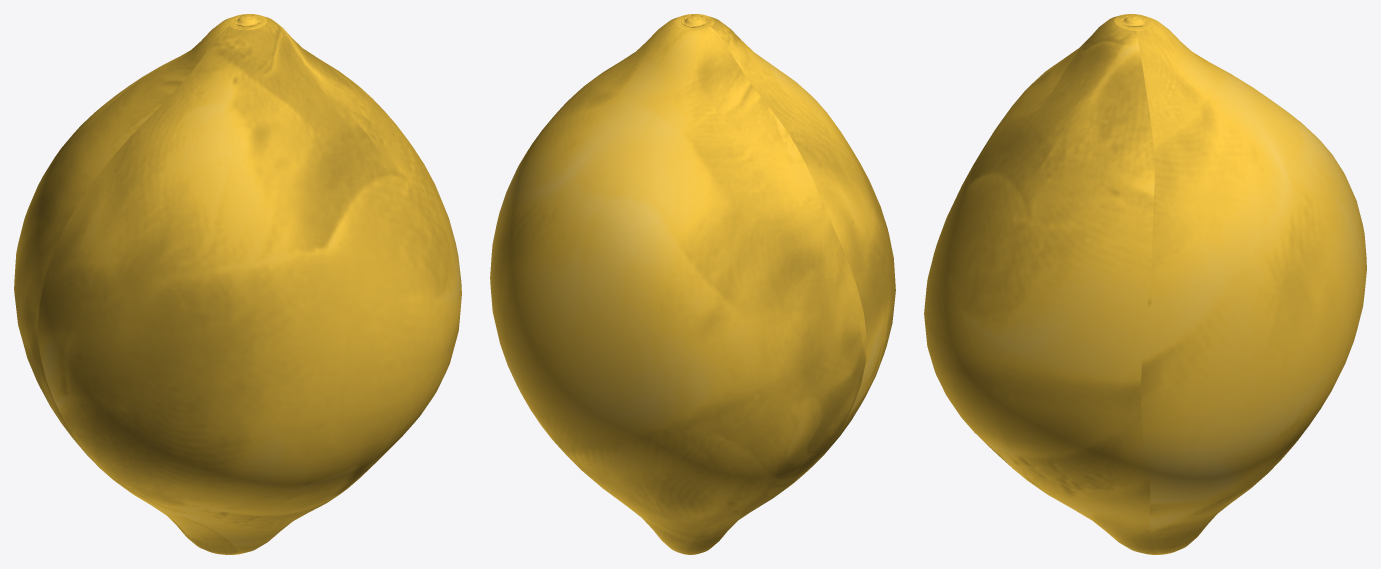
Rendered from mCitron1.FBX.
3 views of the same model, side by side, from view 1: azimuth 30°, elevation 25°; view 2: azimuth 150°, elevation 25°; view 3: azimuth 270°, elevation 25° (orthographic). The views are drawn at different scales.
Parts seen in each view (by area): view 1: Citron_Negatif; view 2: Citron_Negatif; view 3: Citron_Negatif.
Part boxes in pixels (x1=…): Citron_Negatif: x1=14, y1=14, x2=461, y2=554; Citron_Negatif: x1=490, y1=14, x2=895, y2=554; Citron_Negatif: x1=924, y1=14, x2=1366, y2=554.
Bounding box in the file's own units: 1.46 × 2 × 1.49.
